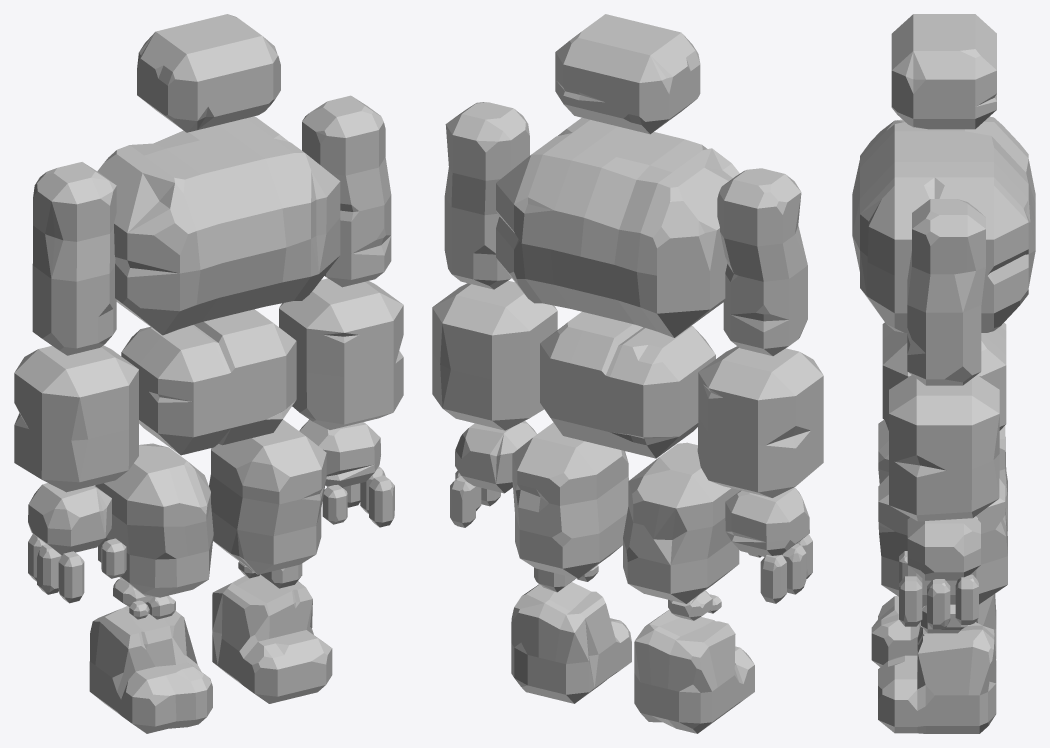
The model's file is GolemChiseledLight.fbx.
The picture shows the model from 3 angles, left to right: view 1: azimuth 30°, elevation 25°; view 2: azimuth 150°, elevation 25°; view 3: azimuth 270°, elevation 25°; orthographic projection.
Parts seen in each view (by area): view 1: ChiseledLightChest, ChiseledLightWaist, ChiseledLightRForearm, ChiseledLightLForeaarm, ChiseledLightRShoulder, ChiseledLightLHip, ChiseledLightHead, ChiseledLightRHip, ChiseledLightRFoot, ChiseledLightLFoot, ChiseledLightLShoulder, ChiseledLightRHand (+3 smaller); view 2: ChiseledLightChest, ChiseledLightWaist, ChiseledLightRForearm, ChiseledLightLForeaarm, ChiseledLightLHip, ChiseledLightRShoulder, ChiseledLightRHip, ChiseledLightHead, ChiseledLightRFoot, ChiseledLightLFoot, ChiseledLightLShoulder, ChiseledLightRHand (+3 smaller); view 3: ChiseledLightChest, ChiseledLightLForeaarm, ChiseledLightLShoulder, ChiseledLightHead, ChiseledLightLFoot, ChiseledLightLHand, ChiseledLightLHip, ChiseledLightWaist, ChiseledLightRFoot, ChiseledLightRHip, ChiseledLightLKnee.
Part boxes in pixels (x1=…): ChiseledLightChest: x1=97, y1=116, x2=340, y2=335; ChiseledLightWaist: x1=121, y1=309, x2=296, y2=455; ChiseledLightRForearm: x1=14, y1=345, x2=138, y2=492; ChiseledLightLForeaarm: x1=279, y1=278, x2=403, y2=429; ChiseledLightRShoulder: x1=32, y1=162, x2=116, y2=355; ChiseledLightLHip: x1=209, y1=419, x2=326, y2=574; ChiseledLightHead: x1=137, y1=14, x2=280, y2=132; ChiseledLightRHip: x1=95, y1=443, x2=213, y2=597; ChiseledLightRFoot: x1=89, y1=606, x2=212, y2=733; ChiseledLightLFoot: x1=212, y1=574, x2=332, y2=703; ChiseledLightLShoulder: x1=302, y1=95, x2=391, y2=287; ChiseledLightRHand: x1=28, y1=483, x2=126, y2=603; ChiseledLightChest: x1=496, y1=118, x2=739, y2=337; ChiseledLightWaist: x1=540, y1=311, x2=715, y2=458; ChiseledLightRForearm: x1=697, y1=346, x2=823, y2=497; ChiseledLightLForeaarm: x1=432, y1=280, x2=557, y2=430; ChiseledLightLHip: x1=512, y1=422, x2=628, y2=578; ChiseledLightRShoulder: x1=717, y1=168, x2=807, y2=356; ChiseledLightRHip: x1=623, y1=442, x2=740, y2=603; ChiseledLightHead: x1=555, y1=14, x2=700, y2=134; ChiseledLightRFoot: x1=634, y1=609, x2=754, y2=733; ChiseledLightLFoot: x1=511, y1=582, x2=631, y2=703; ChiseledLightLShoulder: x1=444, y1=102, x2=529, y2=289; ChiseledLightRHand: x1=725, y1=487, x2=812, y2=603; ChiseledLightChest: x1=852, y1=116, x2=1035, y2=332; ChiseledLightLForeaarm: x1=889, y1=375, x2=999, y2=521; ChiseledLightLShoulder: x1=907, y1=199, x2=985, y2=385; ChiseledLightHead: x1=891, y1=14, x2=996, y2=129; ChiseledLightLFoot: x1=878, y1=622, x2=996, y2=733; ChiseledLightLHand: x1=899, y1=516, x2=980, y2=629; ChiseledLightLHip: x1=878, y1=475, x2=1007, y2=606; ChiseledLightWaist: x1=882, y1=322, x2=1006, y2=430; ChiseledLightRFoot: x1=871, y1=594, x2=996, y2=667; ChiseledLightRHip: x1=878, y1=420, x2=1007, y2=530; ChiseledLightLKnee: x1=921, y1=604, x2=967, y2=633.
Size of the model in its own units: 16.79 by 29.33 by 7.39.
Materials: 1 (1 with a texture image).
